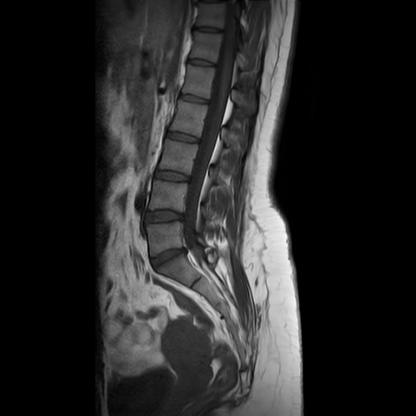Disc Bulgerotation: (142, 209, 185, 228)
Disc Protrusionrotation: (149, 248, 189, 266)
